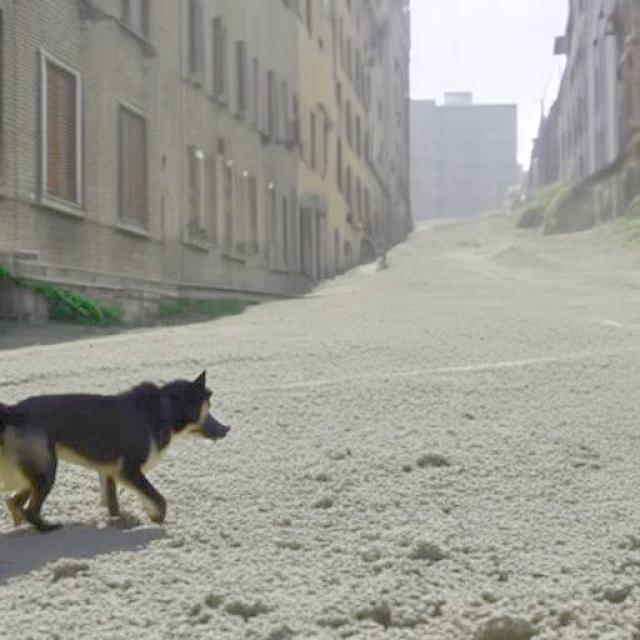Dog: (0, 368, 231, 531)
